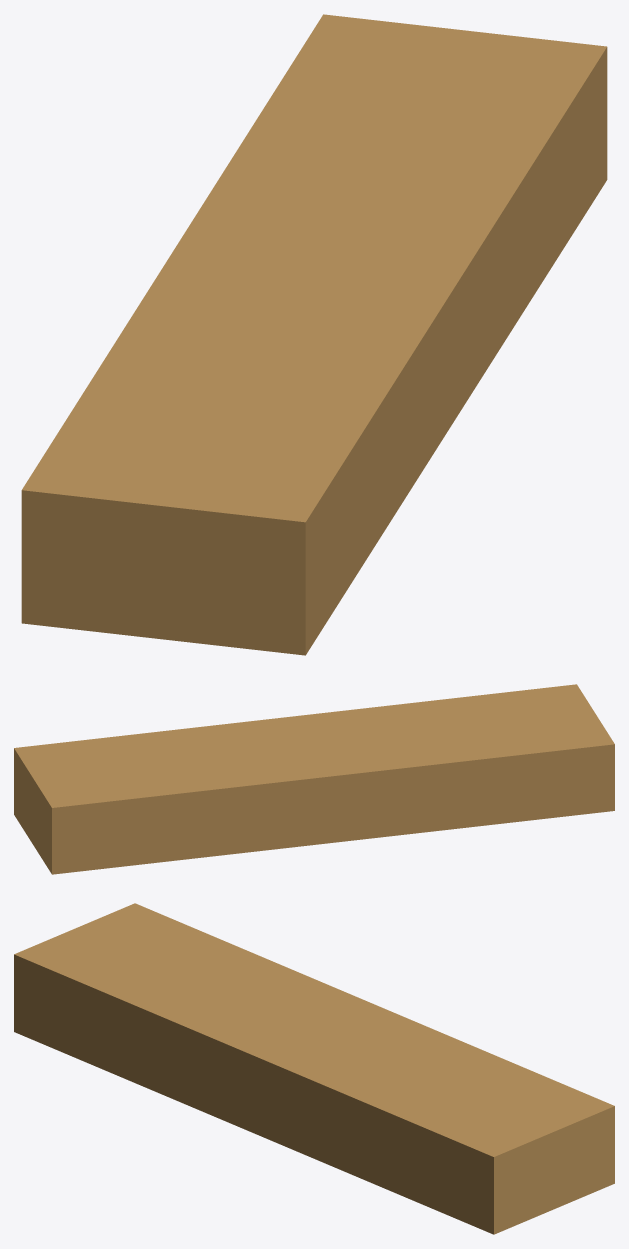
The picture shows the model from 3 angles, top to bottom: view 1: azimuth 30°, elevation 25°; view 2: azimuth 150°, elevation 25°; view 3: azimuth 270°, elevation 25°; orthographic projection. The views are drawn at different scales.
Parts seen in each view (by area): view 1: RUN-019-S00-NOG-01; view 2: RUN-019-S00-NOG-01; view 3: RUN-019-S00-NOG-01.
Boxes of the visible parts, left/top/right/bottom form: RUN-019-S00-NOG-01: left=21, top=14, right=607, bottom=655; RUN-019-S00-NOG-01: left=14, top=684, right=614, bottom=874; RUN-019-S00-NOG-01: left=14, top=903, right=614, bottom=1234.
Bounding box in the file's own units: 0.3159 × 0.045 × 0.3159.
